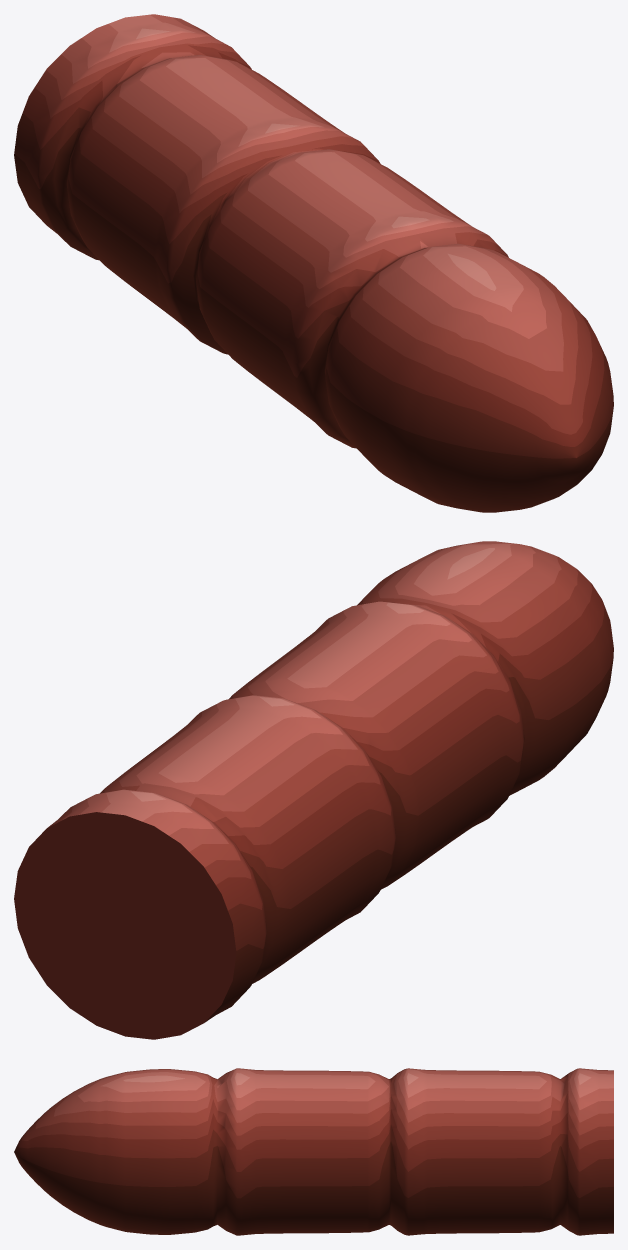
File: coral_worm_b.glb
3 renders of one model, top to bottom at view 1: azimuth 30°, elevation 25°; view 2: azimuth 150°, elevation 25°; view 3: azimuth 270°, elevation 25°, orthographic. The views are drawn at different scales.
Parts seen in each view (by area): view 1: coral_worm_b; view 2: coral_worm_b; view 3: coral_worm_b.
Boxes of the visible parts, x1=… form: coral_worm_b: x1=14, y1=14, x2=613, y2=512; coral_worm_b: x1=14, y1=541, x2=613, y2=1039; coral_worm_b: x1=14, y1=1068, x2=613, y2=1235.
Bounding box in the file's own units: 8.16 × 7.75 × 28.
